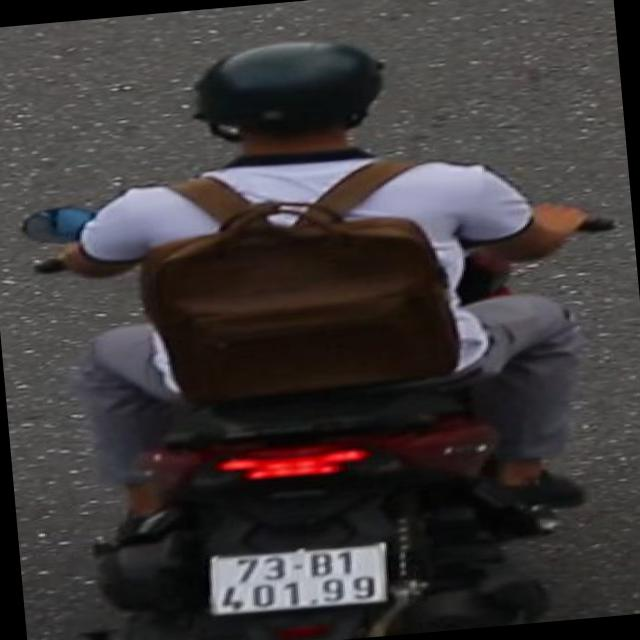LP: (196, 533, 402, 625)
helmet: (175, 29, 402, 184)
